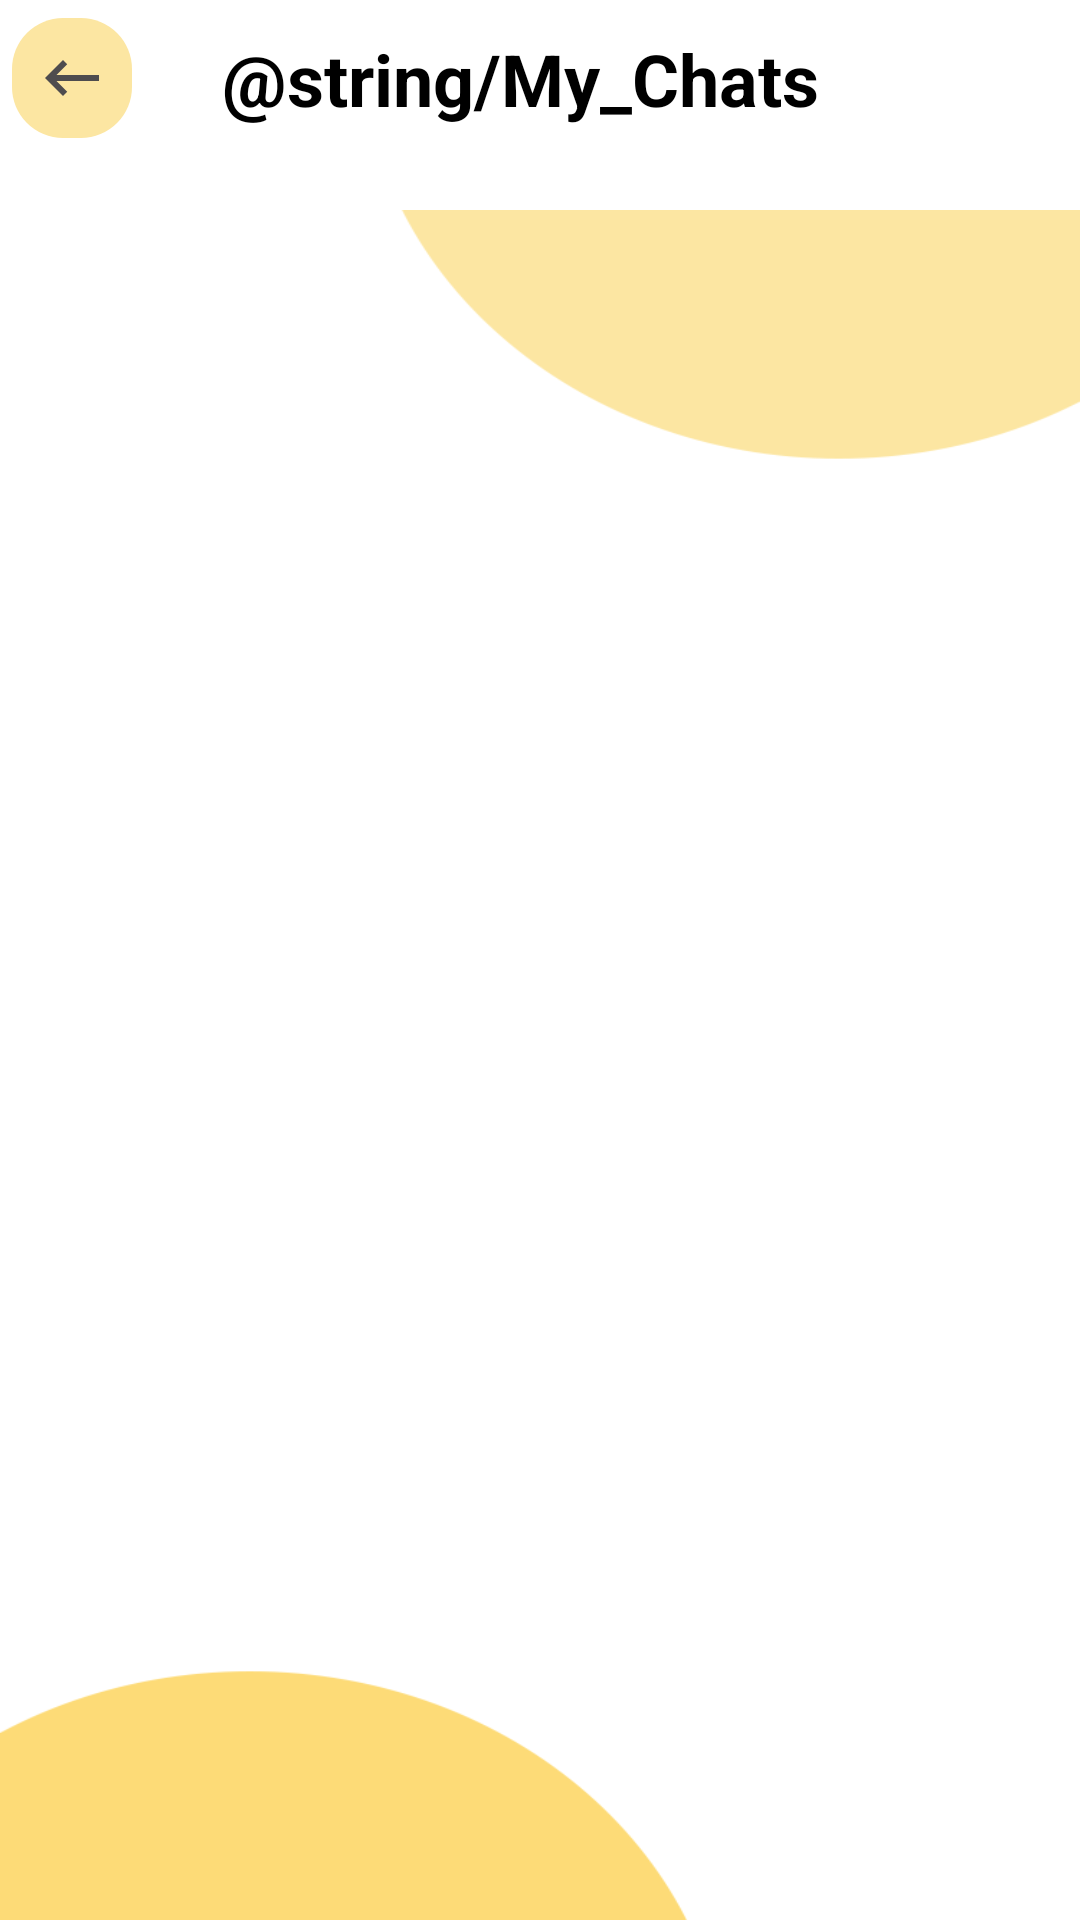

Screen size 1080*1920. Icon name, then its center in pixels as point (x, y):
keyboard backspace: point (72, 78)
